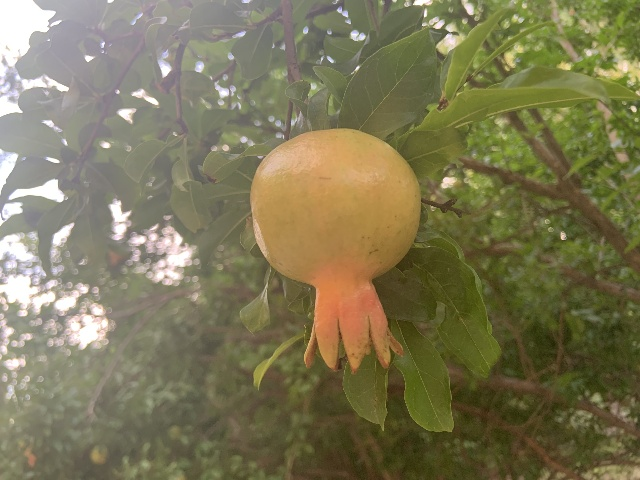mid-growth: (248, 126, 421, 376)
